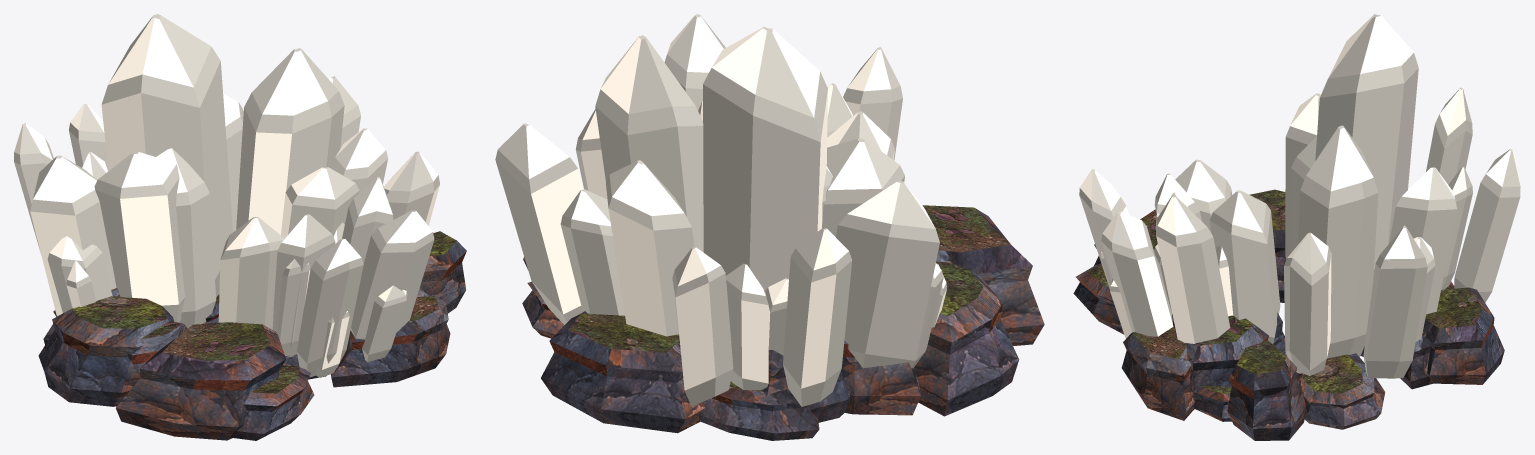
File: quartz_vein.glb
3 renders of one model, left to right at view 1: azimuth 30°, elevation 25°; view 2: azimuth 150°, elevation 25°; view 3: azimuth 270°, elevation 25°, orthographic. The views are drawn at different scales.
Parts seen in each view (by area): view 1: quartz_vein; view 2: quartz_vein; view 3: quartz_vein.
Part boxes in pixels (box(x1,y1,x2,y2)): quartz_vein: box(14, 14, 466, 440); quartz_vein: box(495, 14, 1044, 440); quartz_vein: box(1073, 14, 1520, 440).
Size of the model in its own units: 1.93 by 1.42 by 1.84.
6 materials, 3 textured.
